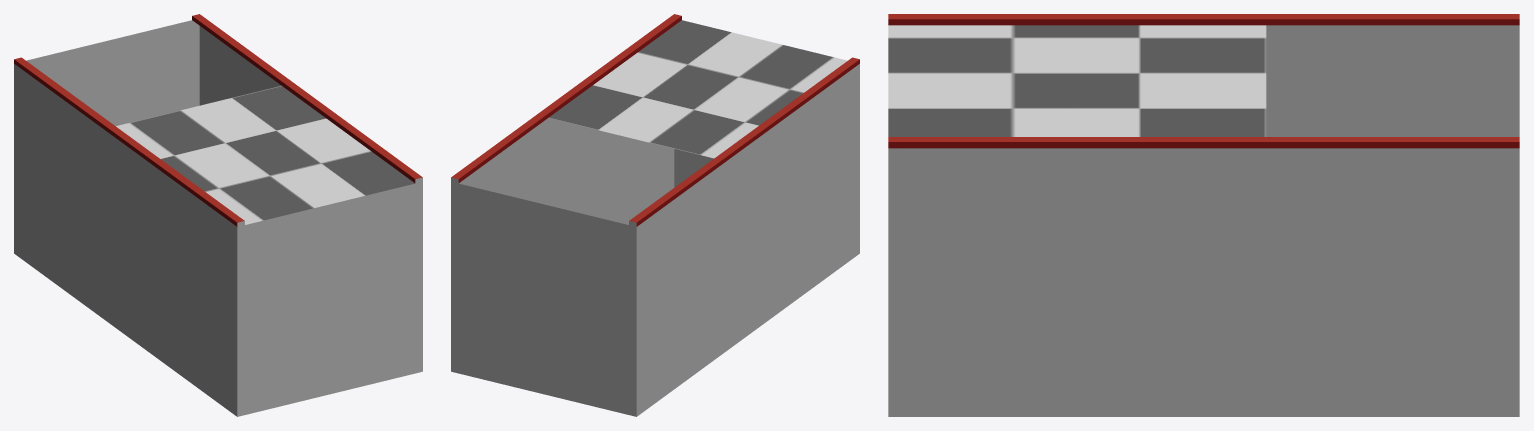
The model's file is Road_Curve_07.fbx.
3 views of the same model, side by side, from view 1: azimuth 30°, elevation 25°; view 2: azimuth 150°, elevation 25°; view 3: azimuth 270°, elevation 25° (orthographic). The views are drawn at different scales.
Parts seen in each view (by area): view 1: Road_Curve_07, Road_Curve_07_Border; view 2: Road_Curve_07, Road_Curve_07_Border; view 3: Road_Curve_07, Road_Curve_07_Border.
Part boxes in pixels (x1,y1,x2,y2): Road_Curve_07: (14,20,422,416); Road_Curve_07_Border: (14,14,422,226); Road_Curve_07: (451,20,859,416); Road_Curve_07_Border: (451,14,859,226); Road_Curve_07: (888,25,1519,416); Road_Curve_07_Border: (888,14,1519,148).
Bounding box in the file's own units: 876 × 876 × 1825.
